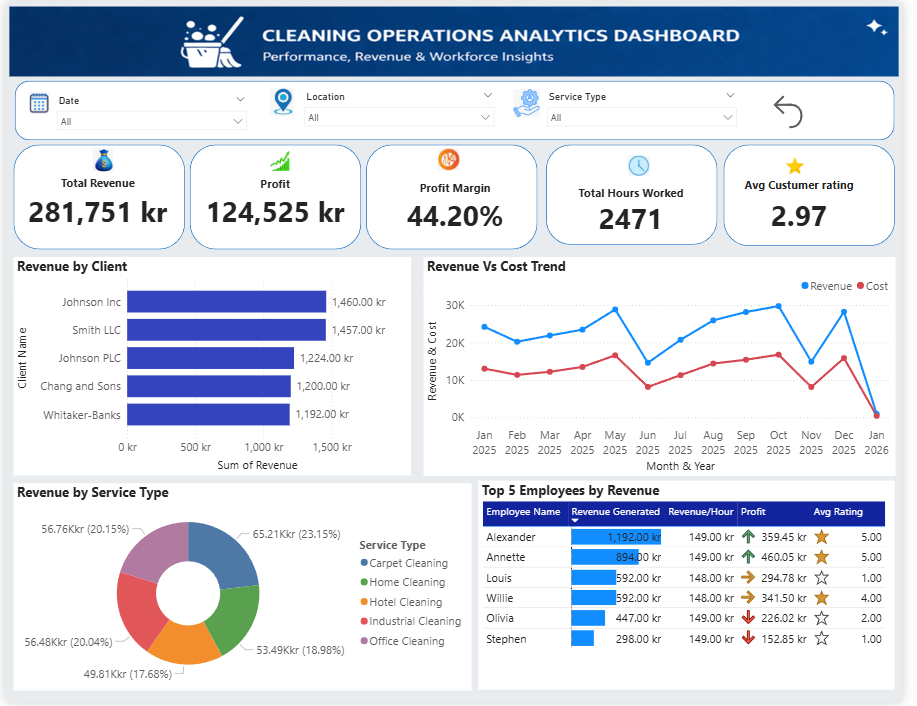

What the dashboard file says about the page in this screenshot:
{"tool":"powerbi","page":{"name":"Performance","canvas":[1280,1000],"ordinal":0},"visuals":[{"type":"image","box":[0,0,1280.3,112.5],"z":0},{"type":"shape","box":[515,203.3,245,150],"z":1000},{"type":"shape","box":[261.7,203.3,245,150],"z":2000},{"type":"shape","box":[13.3,113.3,1256.7,85],"z":3000},{"type":"shape","box":[10,203.3,245,150],"z":4000},{"type":"slicer","fields":{"Values":["DateTable.Month"]},"box":[61.7,126.7,291.7,60],"z":5000},{"type":"slicer","fields":{"Values":["Operation.Service_Type"]},"box":[761.7,121.7,291.7,65],"z":6000},{"type":"slicer","fields":{"Values":["Operation.Location"]},"box":[416.7,121.7,291.7,60],"z":7000},{"type":"actionButton","title":"Reset","box":[1088.3,126.7,88.3,60],"z":8000},{"type":"clusteredBarChart","title":" Revenue by Client","fields":{"Y":["Sum(Operation.Revenue)"],"Category":["Operation.Client_Name"]},"box":[10,365,568.3,311.7],"z":9000},{"type":"shape","box":[1025,203.3,245,145],"z":10000},{"type":"card","title":"Profit","fields":{"Values":["Sum(Operation.Profit)"]},"box":[270,248.3,230,80],"z":11000},{"type":"card","title":"Avg Custumer rating","fields":{"Values":["Operation.Avg Rating"]},"box":[1045,250,176.7,86.7],"z":12000},{"type":"card","title":"Total Revenue","fields":{"Values":["Sum(Operation.Revenue)"]},"box":[18.3,246.7,226.7,86.7],"z":13000},{"type":"shape","box":[771.7,203.3,245,143.3],"z":14000},{"type":"card","title":"Total Hours Worked","fields":{"Values":["Operation.Total Hours"]},"box":[793.3,260,200,73.3],"z":15000},{"type":"lineChart","title":"Revenue Vs Cost Trend","fields":{"Y":["Operation.Total Revenue","Sum(Operation.Cost)"],"Category":["DateTable.MonthYear"]},"box":[595.7,364.3,674.3,312.9],"z":16000},{"type":"donutChart","title":"Revenue by Service Type","fields":{"Y":["Sum(Operation.Revenue)"],"Category":["Operation.Service_Type"]},"box":[10,687.1,654.3,295.7],"z":17000},{"type":"tableEx","title":" Top 5 Employees by Revenue","fields":{"Values":["Operation.Employee_Name","Sum(Operation.Revenue)","Operation.Revenue per Hour","Operation.Profit","Operation.Avg Rating"]},"box":[675.7,684.3,594.3,298.6],"z":18000},{"type":"image","box":[118.3,203.3,40,43],"z":19000},{"type":"image","box":[371.7,205,40,43],"z":20000},{"type":"image","box":[883.3,213.3,40,43.3],"z":21000},{"type":"image","box":[1106.7,211.7,40,43],"z":22000},{"type":"card","title":"Profit Margin","fields":{"Values":["Operation.Profit Margin %"]},"box":[536.7,253.3,208.3,80],"z":24000},{"type":"image","box":[28.3,118.3,38.3,51.7],"z":25000},{"type":"image","box":[371.7,118.3,45,50],"z":26000},{"type":"image","box":[716.7,120,55,50],"z":27000},{"type":"image","box":[611.7,203.3,40,43],"z":28000}]}

Visuals, with their boxes in screenshot pixels (x1, y1, x2, y2), scaled from the page's 1280x1000 canvas onto the 917x706 screenshot:
image: 0/0/916/79
shape: 369/144/544/249
shape: 187/144/363/249
shape: 10/80/910/140
shape: 7/144/183/249
slicer - DateTable.Month: 44/89/253/132
slicer - Operation.Service_Type: 546/86/755/132
slicer - Operation.Location: 299/86/508/128
"Reset" actionButton: 780/89/843/132
" Revenue by Client" clusteredBarChart: 7/258/414/478
shape: 734/144/910/246
"Profit" card: 193/175/358/232
"Avg Custumer rating" card: 749/176/875/238
"Total Revenue" card: 13/174/176/235
shape: 553/144/728/245
"Total Hours Worked" card: 568/184/712/235
"Revenue Vs Cost Trend" lineChart: 427/257/910/478
"Revenue by Service Type" donutChart: 7/485/476/694
" Top 5 Employees by Revenue" tableEx: 484/483/910/694
image: 85/144/113/174
image: 266/145/295/175
image: 633/151/661/181
image: 793/149/822/180
"Profit Margin" card: 384/179/534/235
image: 20/84/48/120
image: 266/84/299/119
image: 513/85/553/120
image: 438/144/467/174
